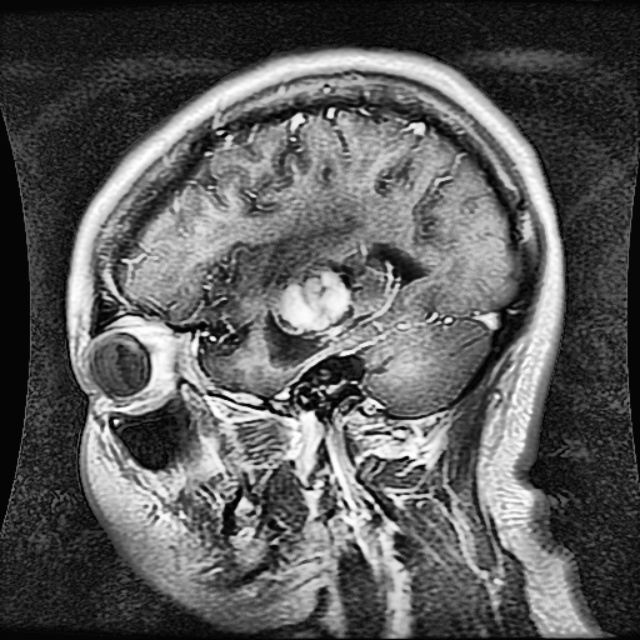Meningioma: (265, 264, 358, 364)
